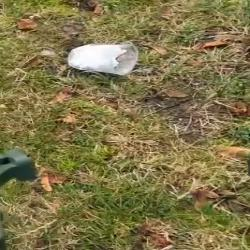Litter: (69, 41, 138, 75)
